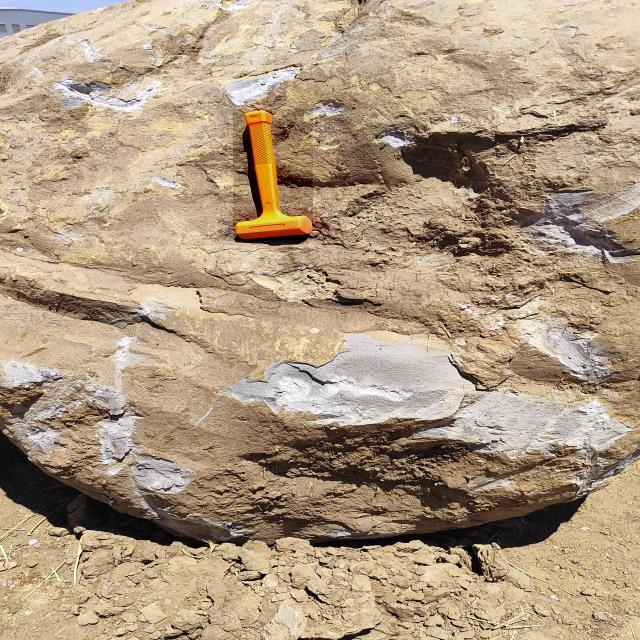Orange_hammer: (233, 109, 313, 240)
